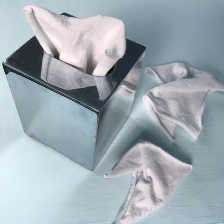tissue: (13, 0, 132, 81), (96, 134, 198, 223), (136, 52, 224, 148)
